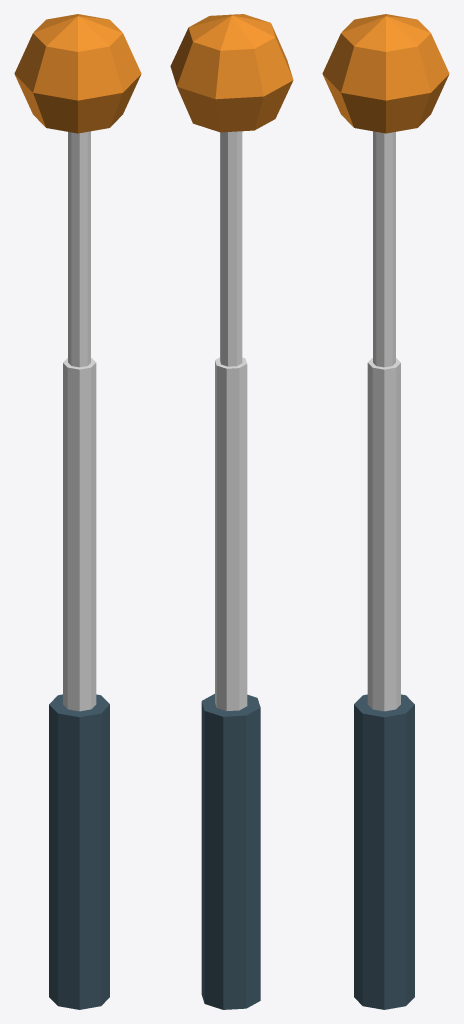
The model's file is streetlamp_2.fbx.
The picture shows the model from 3 angles, left to right: view 1: azimuth 90°, elevation 25°; view 2: azimuth 210°, elevation 25°; view 3: azimuth 270°, elevation 25°; orthographic projection.
Parts seen in each view (by area): view 1: Объект_Куб.046, Объект_Куб.048, Объект_Куб.045, Объект_Куб.049; view 2: Объект_Куб.046, Объект_Куб.048, Объект_Куб.045, Объект_Куб.049; view 3: Объект_Куб.046, Объект_Куб.048, Объект_Куб.045, Объект_Куб.049.
Boxes of the visible parts, left/top/right/bottom form: Объект_Куб.046: left=49, top=694, right=109, bottom=1009; Объект_Куб.048: left=63, top=357, right=96, bottom=711; Объект_Куб.045: left=14, top=14, right=141, bottom=133; Объект_Куб.049: left=68, top=131, right=90, bottom=367; Объект_Куб.046: left=201, top=694, right=260, bottom=1009; Объект_Куб.048: left=215, top=357, right=247, bottom=710; Объект_Куб.045: left=170, top=14, right=293, bottom=132; Объект_Куб.049: left=220, top=131, right=242, bottom=366; Объект_Куб.046: left=354, top=694, right=414, bottom=1009; Объект_Куб.048: left=367, top=357, right=400, bottom=711; Объект_Куб.045: left=322, top=14, right=449, bottom=133; Объект_Куб.049: left=373, top=131, right=395, bottom=367.
Bounding box in the file's own units: 0.925 × 7.87 × 0.925.
